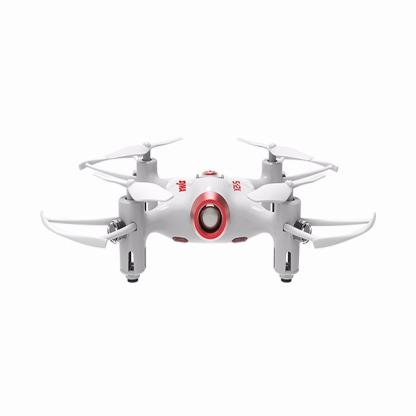drone: (47, 136, 385, 287)
